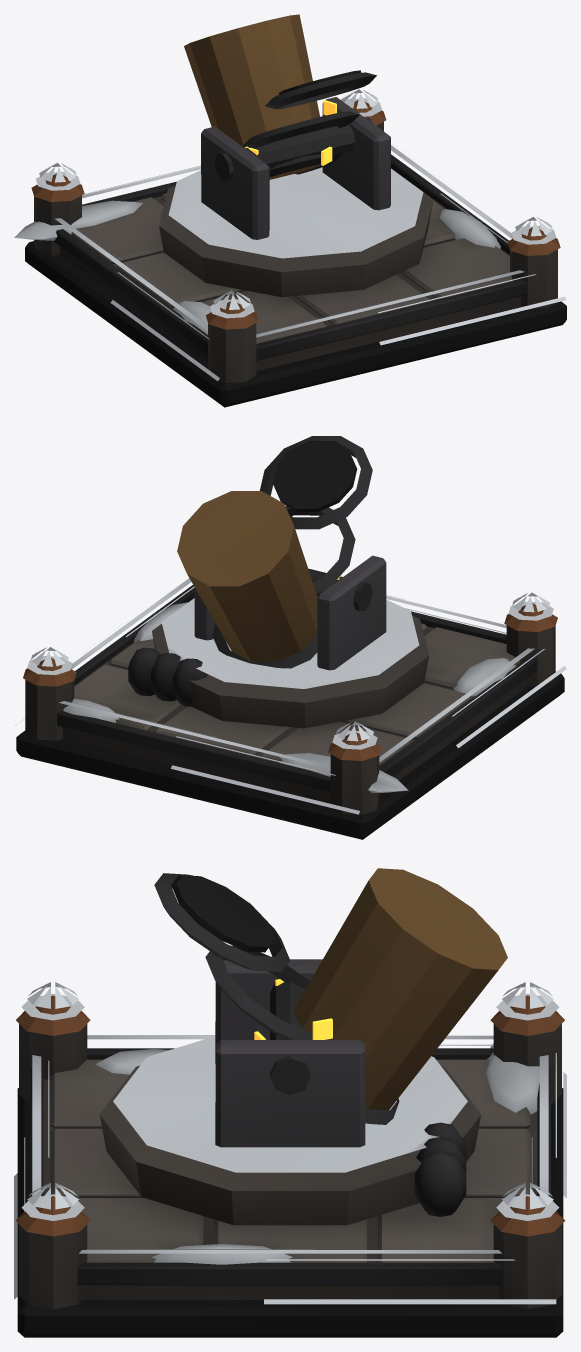
The model's file is nains-3.glb.
The picture shows the model from 3 angles, top to bottom: view 1: azimuth 30°, elevation 25°; view 2: azimuth 150°, elevation 25°; view 3: azimuth 270°, elevation 25°; orthographic projection. The views are drawn at different scales.
Parts seen in each view (by area): view 1: hautroc_3_architecture, Tourelle_peint; view 2: hautroc_3_architecture, Tourelle_peint; view 3: hautroc_3_architecture, Tourelle_peint.
Boxes of the visible parts, left/top/right/bottom form: hautroc_3_architecture: left=14, top=89, right=566, bottom=407; Tourelle_peint: left=184, top=14, right=390, bottom=239; hautroc_3_architecture: left=15, top=578, right=566, bottom=839; Tourelle_peint: left=177, top=436, right=386, bottom=670; hautroc_3_architecture: left=14, top=982, right=566, bottom=1337; Tourelle_peint: left=154, top=868, right=507, bottom=1147.
Size of the model in its own units: 0.8655 by 0.5586 by 0.811.
